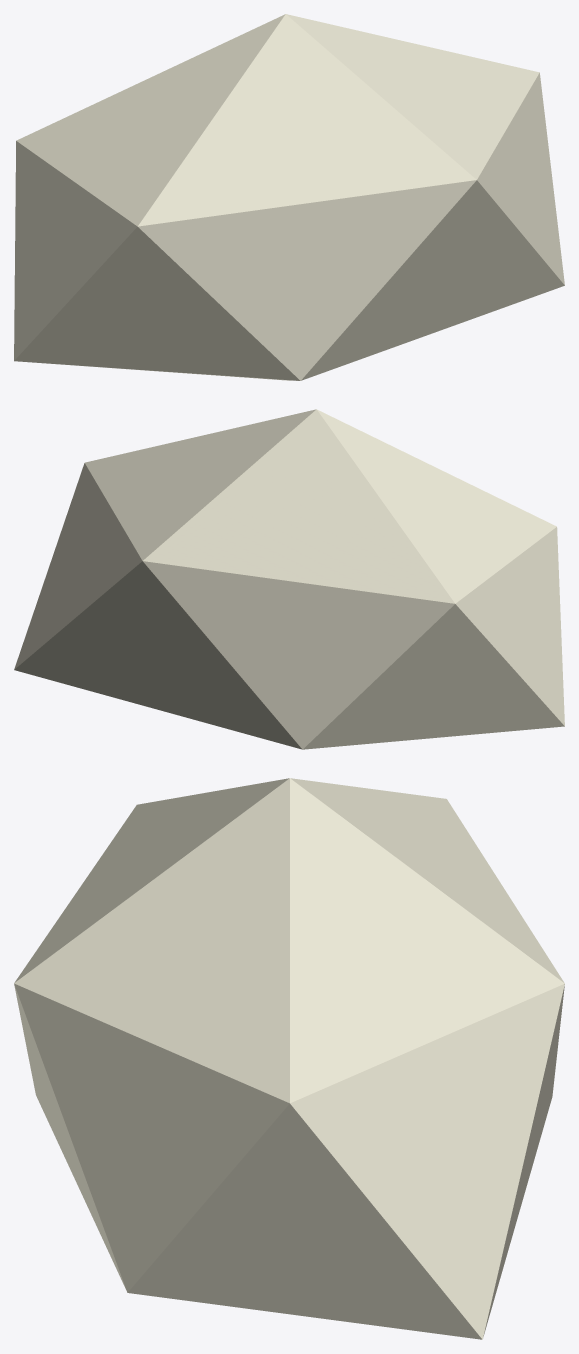
The model's file is item_095_lime_s.glb.
3 views of the same model, one above another, from view 1: azimuth 30°, elevation 25°; view 2: azimuth 150°, elevation 25°; view 3: azimuth 270°, elevation 25° (orthographic). The views are drawn at different scales.
Parts seen in each view (by area): view 1: item_095_lime_s; view 2: item_095_lime_s; view 3: item_095_lime_s.
Boxes of the visible parts, x1,y1,x2,y2 form: item_095_lime_s: [14, 14, 564, 380]; item_095_lime_s: [14, 409, 564, 749]; item_095_lime_s: [14, 778, 564, 1339].
Bounding box in the file's own units: 0.2966 × 0.1957 × 0.2003.
